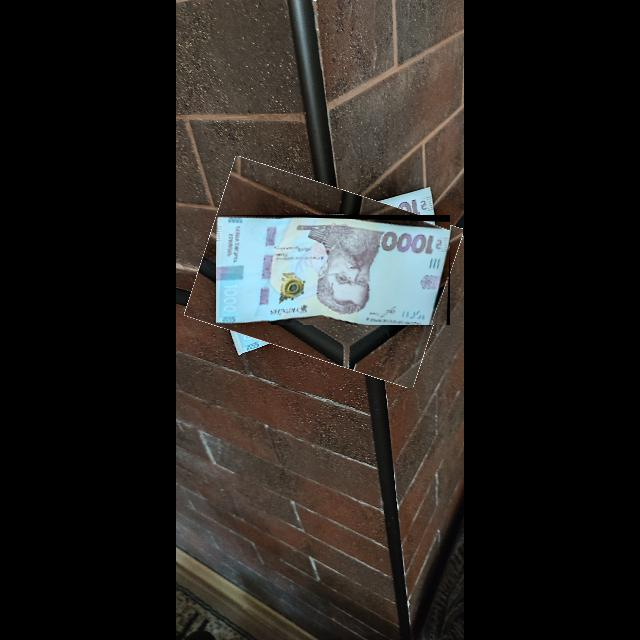1000uah: (216, 218, 451, 326)
